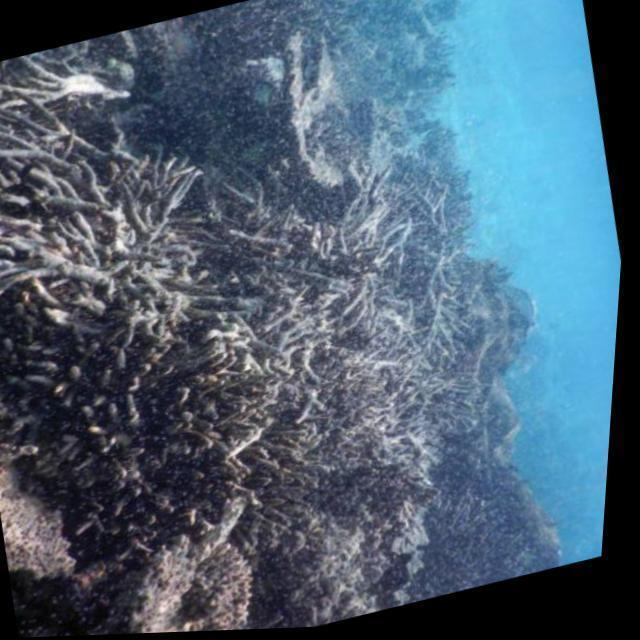Dead Coral: (199, 151, 532, 510), (0, 14, 240, 324), (418, 469, 549, 601), (61, 444, 191, 572), (180, 546, 291, 634)
